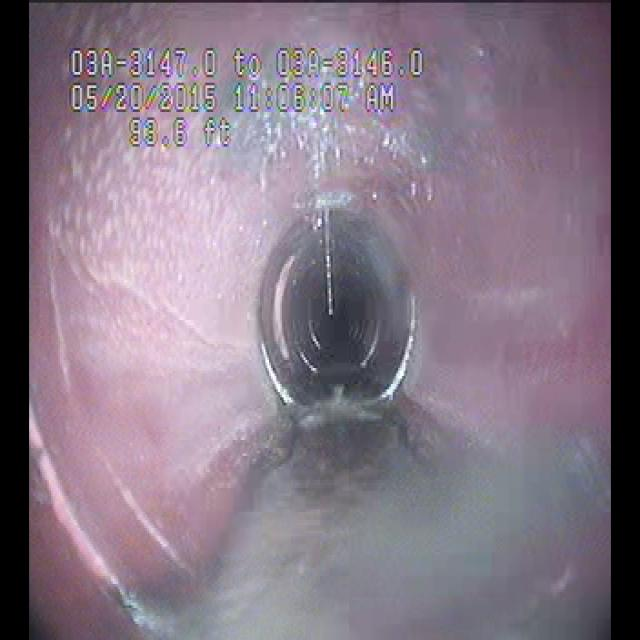Crack: (61, 200, 249, 365)
